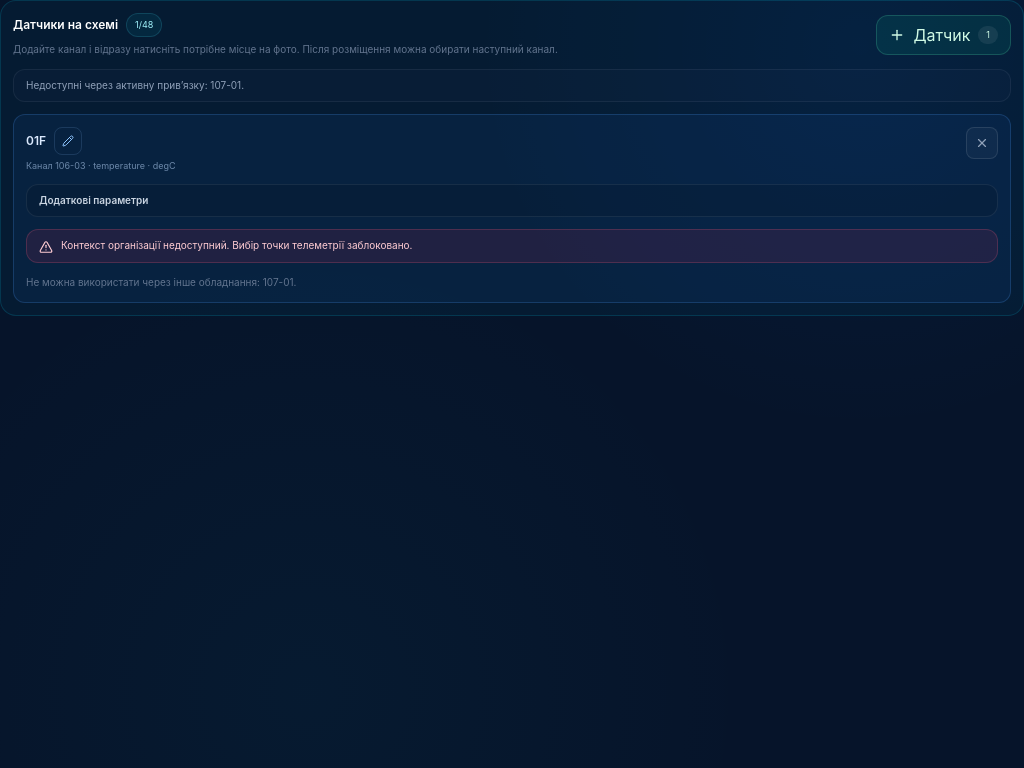
SensorPlacementManager › keeps quick add available without organization context while advanced replacement stays fail-closed
Click the button with aria-label "Додати датчик" at [944, 35], box [876,15,1011,55]
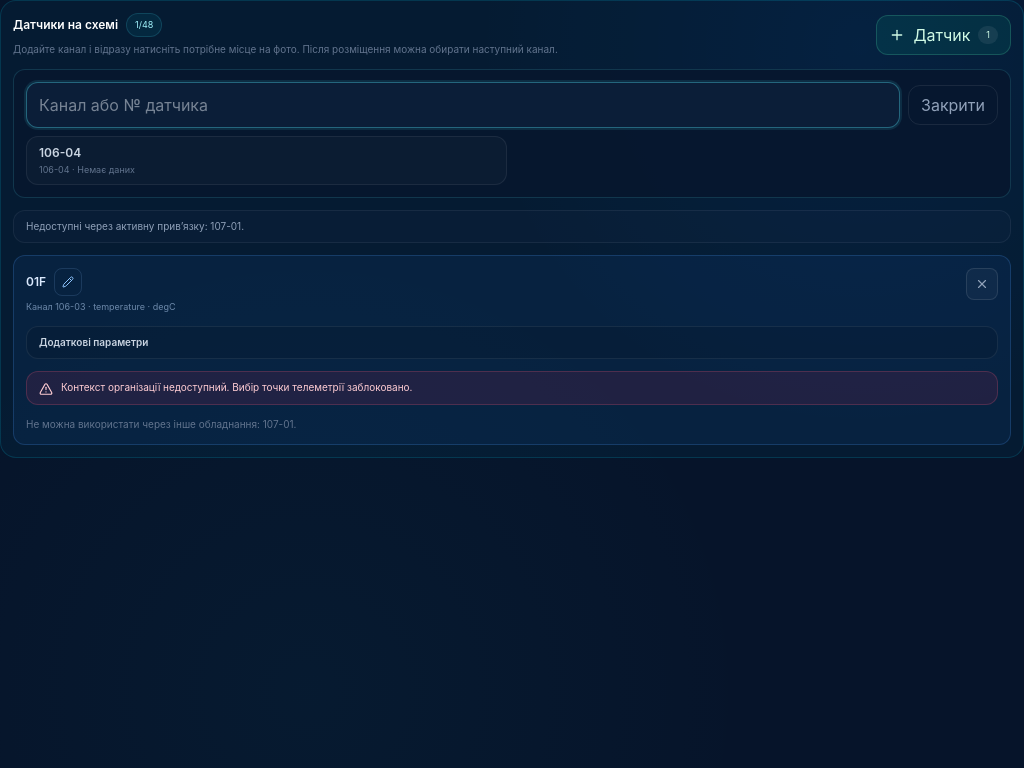
Type "106-04" into the search field named "Пошук датчика" at [463, 104], box [26,82,900,128]
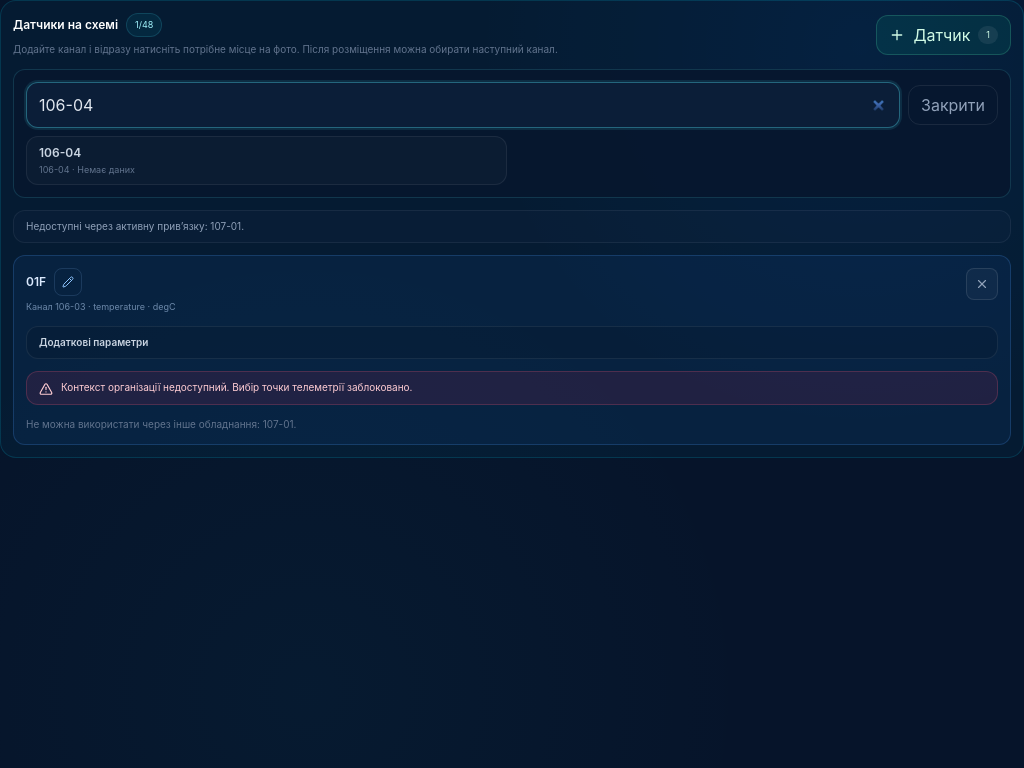
Click the button "106-04 106-04 · Немає даних" at [60, 152], box [26,136,507,185]
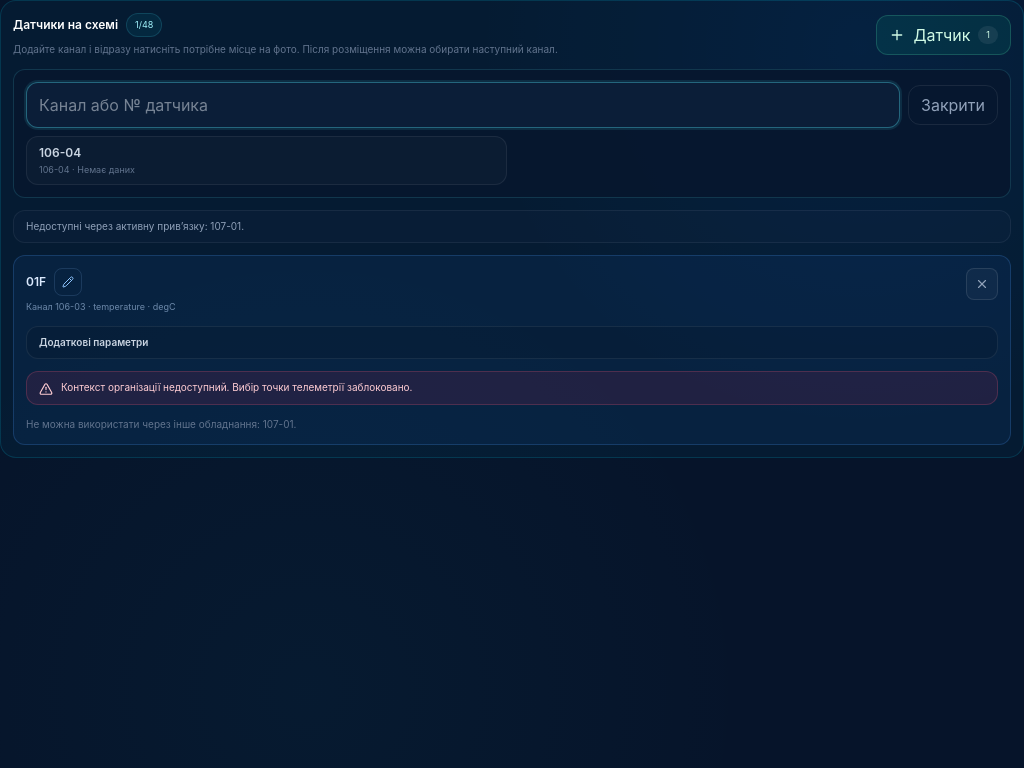
Click the heading "Додаткові параметри" at [94, 342], box [39,336,148,348]
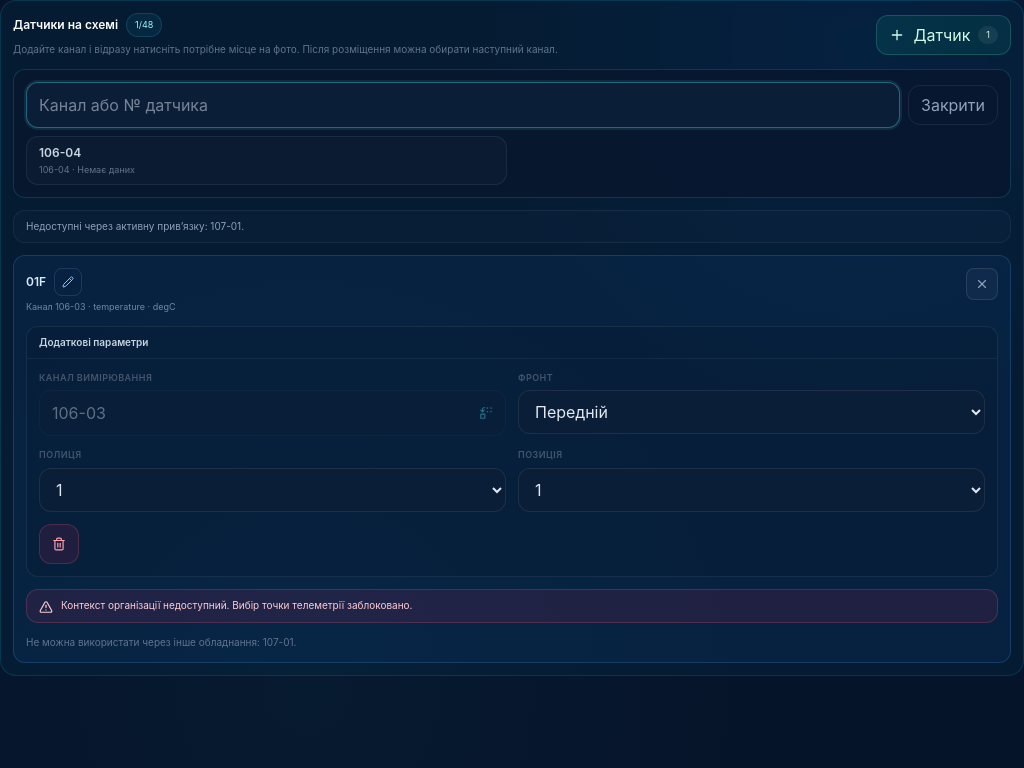
Check: the text "Контекст організації недоступний" is shown, box [61,598,412,610]
Check: the button named "Вибрати інший канал вимірювання" is disabled, box [39,390,506,436]
